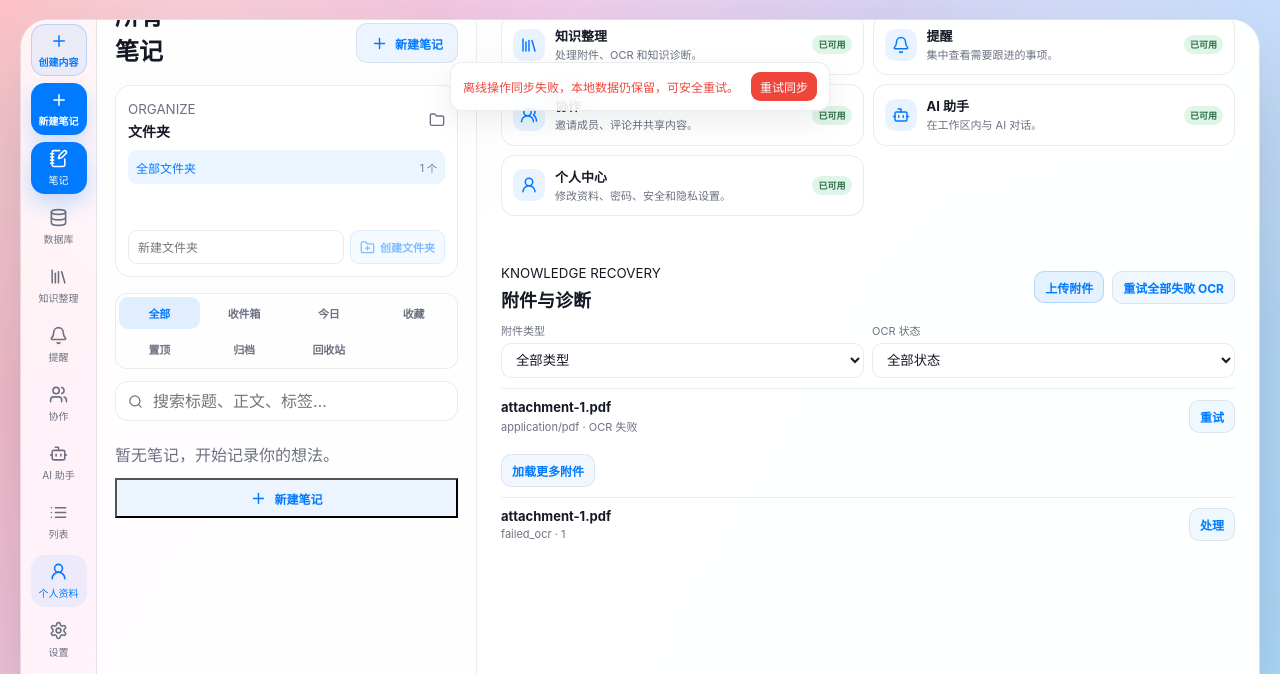
Scenario: live knowledge recovery › clears an old attachment cursor when a new MIME query fails
(page scrolled)
Expected: the button "加载更多附件" is shown, [501,454,595,487]
Select "application/pdf" in the dropdown named "附件类型过滤": (682, 361) [501,343,864,378]
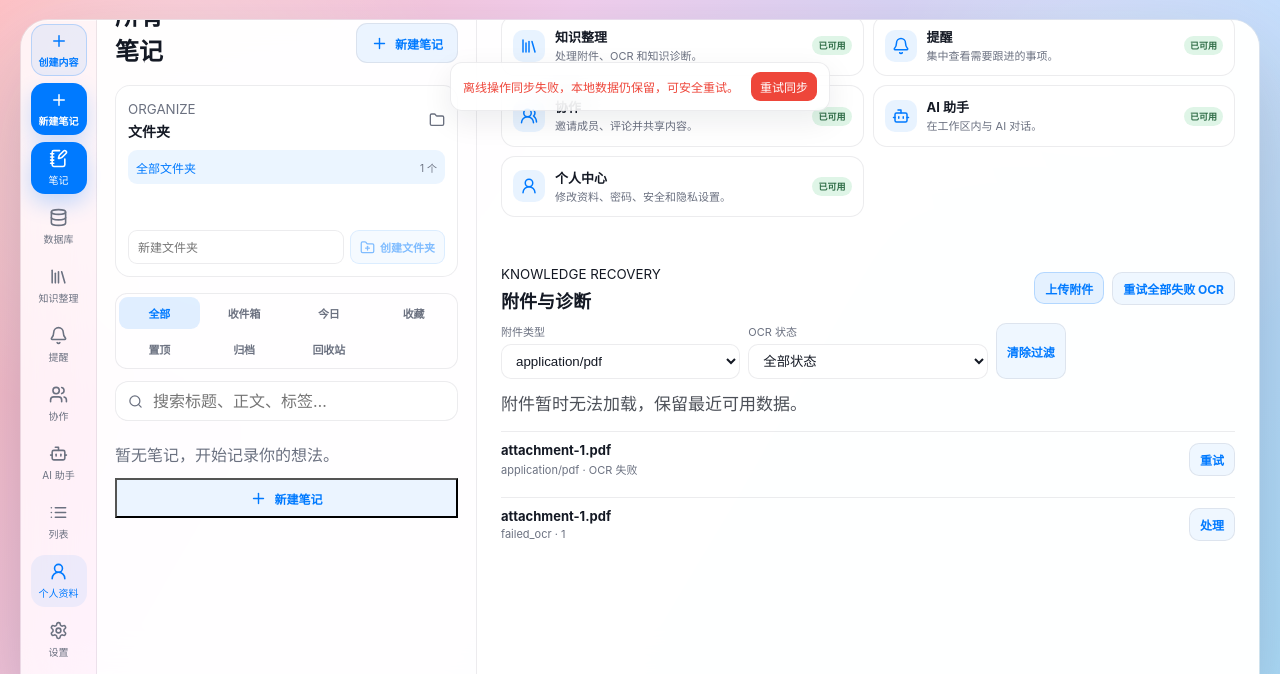
Result: the message "附件暂时无法加载，保留最近可用数据。" is shown at [501,394,807,414]
Result: the button "加载更多附件" is gone
